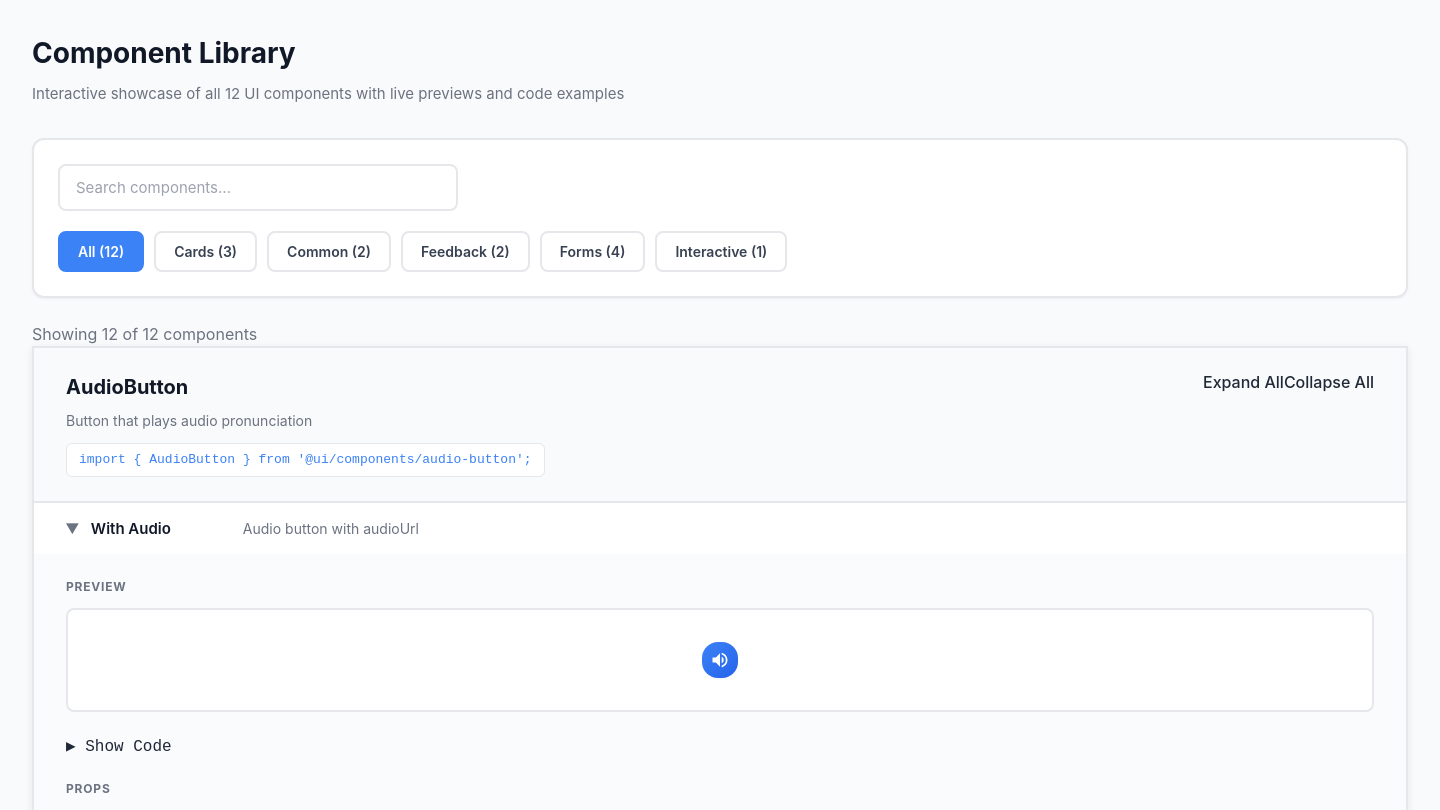
Test case: ComponentLibrary › Category Filtering › should filter by Cards category
Click the button "Cards (3)" at (206, 252), box [154, 231, 257, 272]
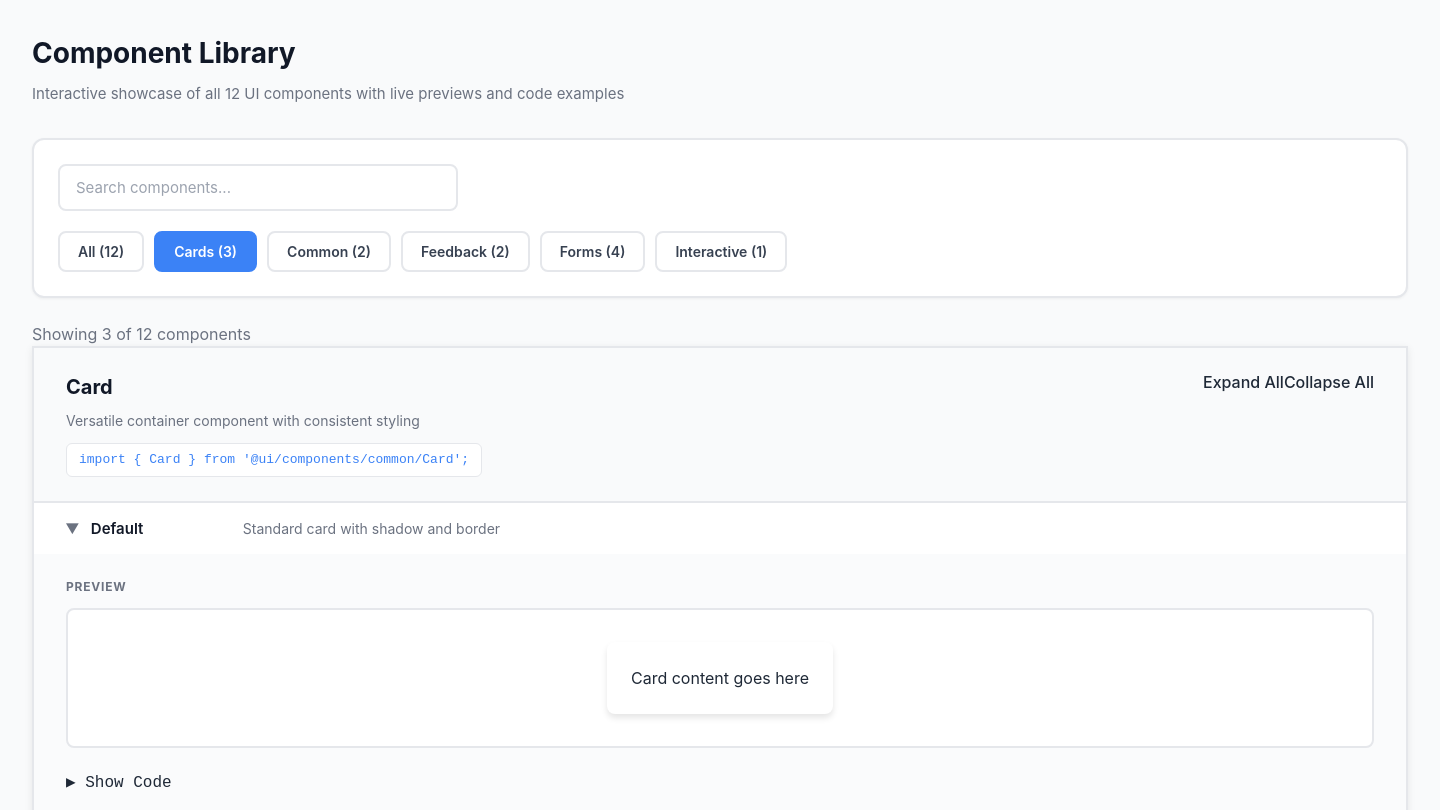
Check: the text "Showing 3 of 12 components" is shown, box [32, 324, 251, 344]
